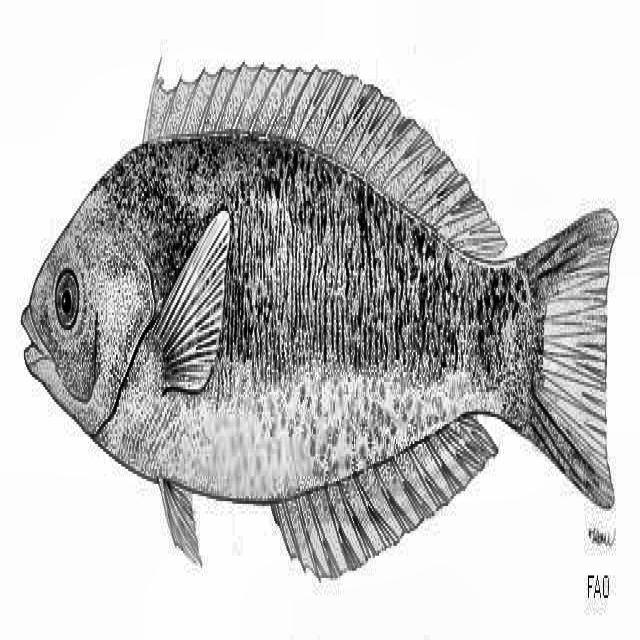fish: (20, 49, 620, 582)
